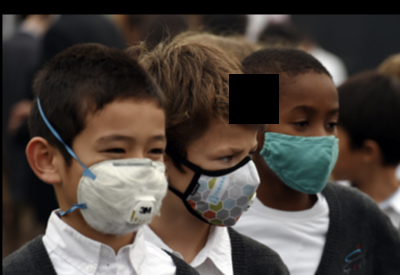with_mask: (63, 131, 169, 236), (177, 141, 260, 228), (260, 104, 340, 194)
